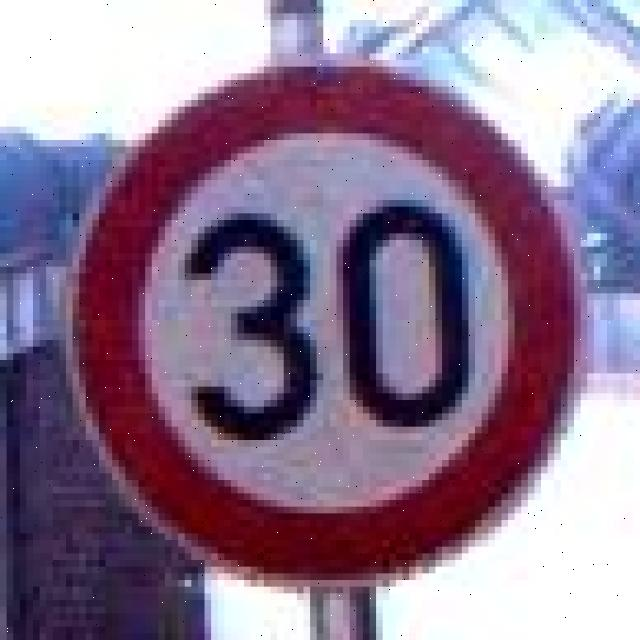speed limit 30: (63, 63, 586, 588)
